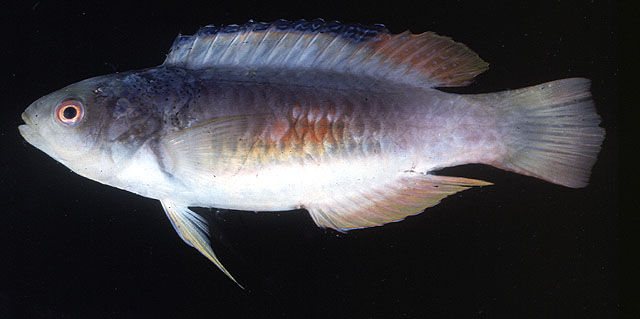fish: (18, 19, 604, 291)
